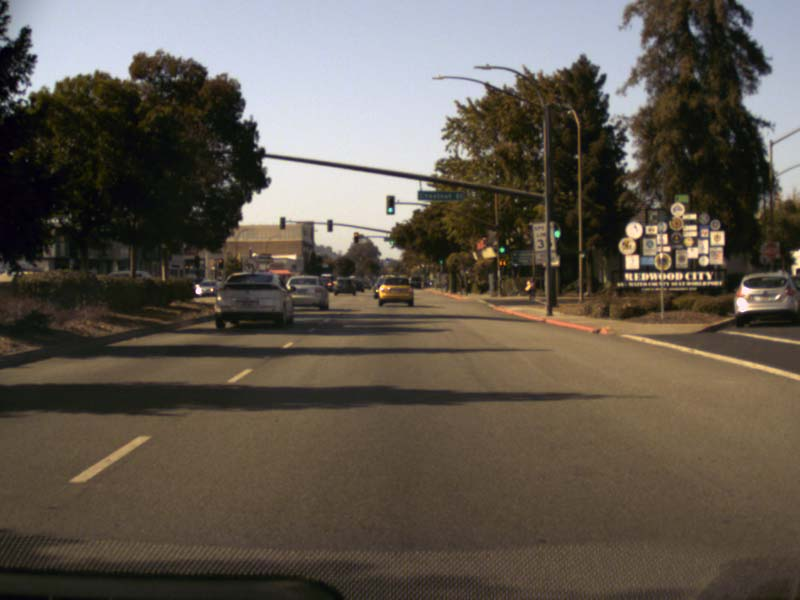Green: (498, 236, 506, 255), (386, 195, 394, 214), (553, 218, 560, 239), (438, 256, 442, 265), (390, 237, 393, 244)
Red: (217, 259, 223, 269), (354, 233, 358, 242)
